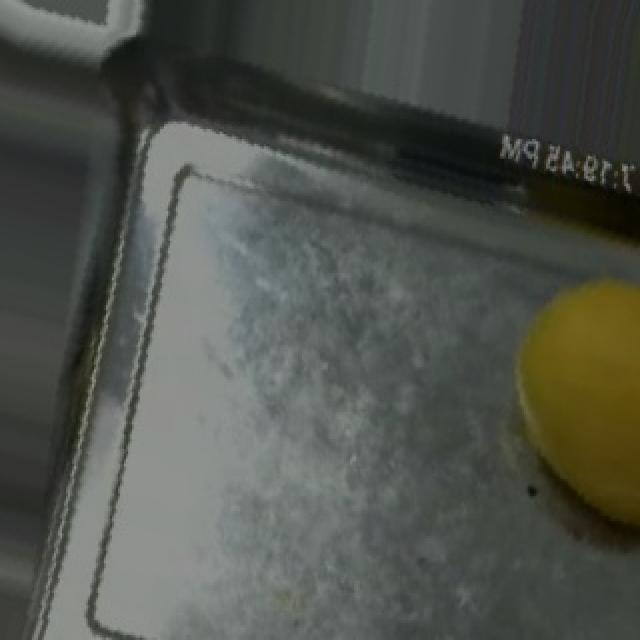fruit: (466, 230, 640, 560)
